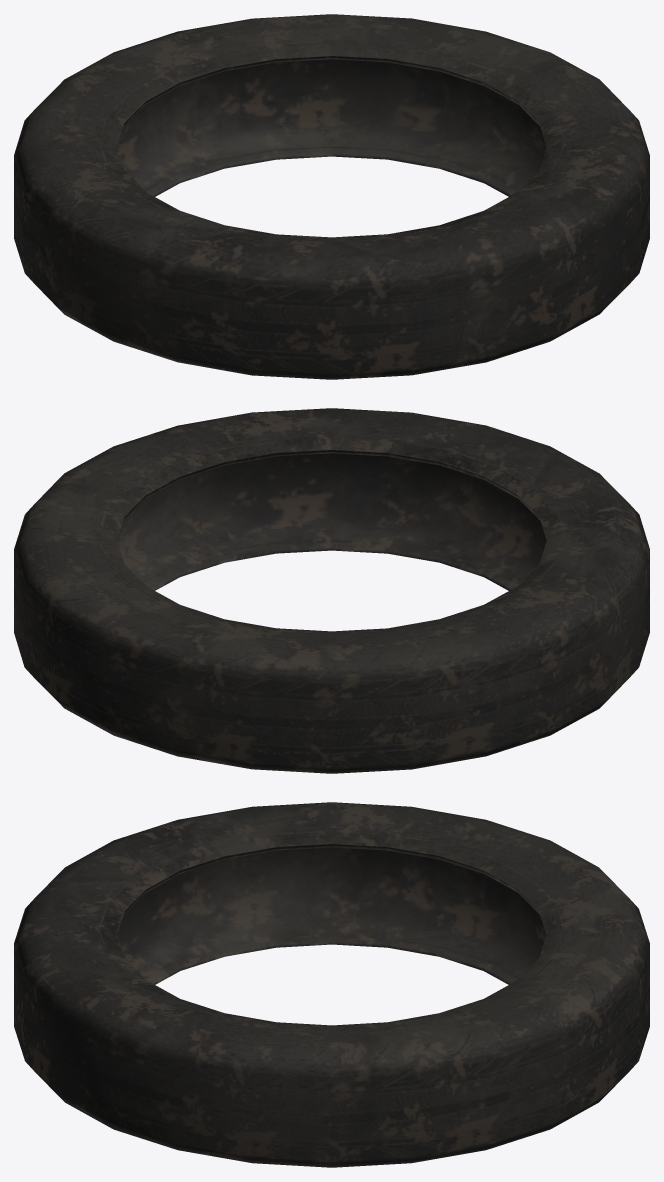
The model's file is TrTireA3.fbx.
3 renders of one model, top to bottom at view 1: azimuth 30°, elevation 25°; view 2: azimuth 150°, elevation 25°; view 3: azimuth 270°, elevation 25°, orthographic.
Parts seen in each view (by area): view 1: TrTireA3_LOD0; view 2: TrTireA3_LOD0; view 3: TrTireA3_LOD0.
Boxes of the visible parts, x1,y1,x2,y2 form: TrTireA3_LOD0: [14, 14, 649, 379]; TrTireA3_LOD0: [14, 408, 649, 773]; TrTireA3_LOD0: [14, 802, 649, 1167].
Size of what is drawn, in the model's own units: 63.69 by 13.35 by 63.69.
Materials: 1 (1 with a texture image).
